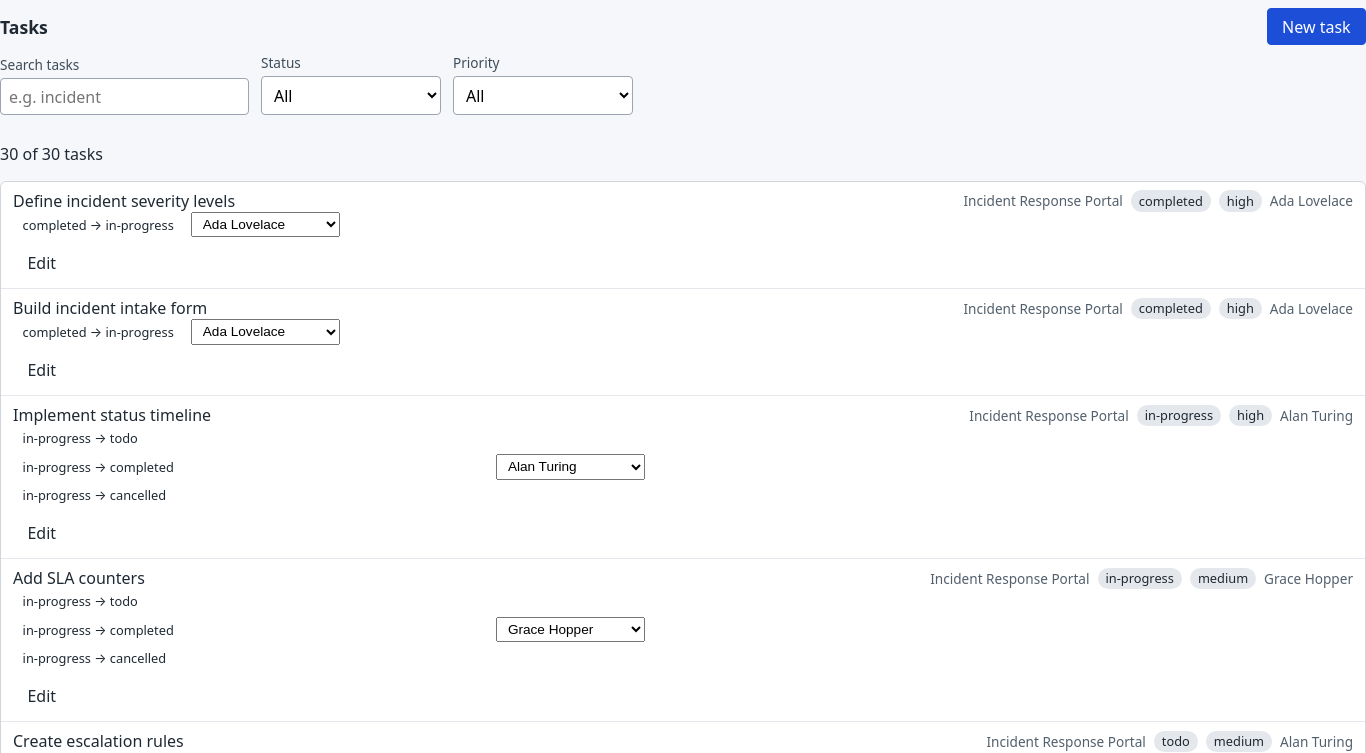
TasksPage — edit (TSK-EDIT) › edits title, description, priority and assignee in any status, including completed
The width and height of the screenshot is (1366, 753).
Step 1. Click the button "Edit" below "Define incident severity levels" → (42, 263), box [13,245,1353,280]
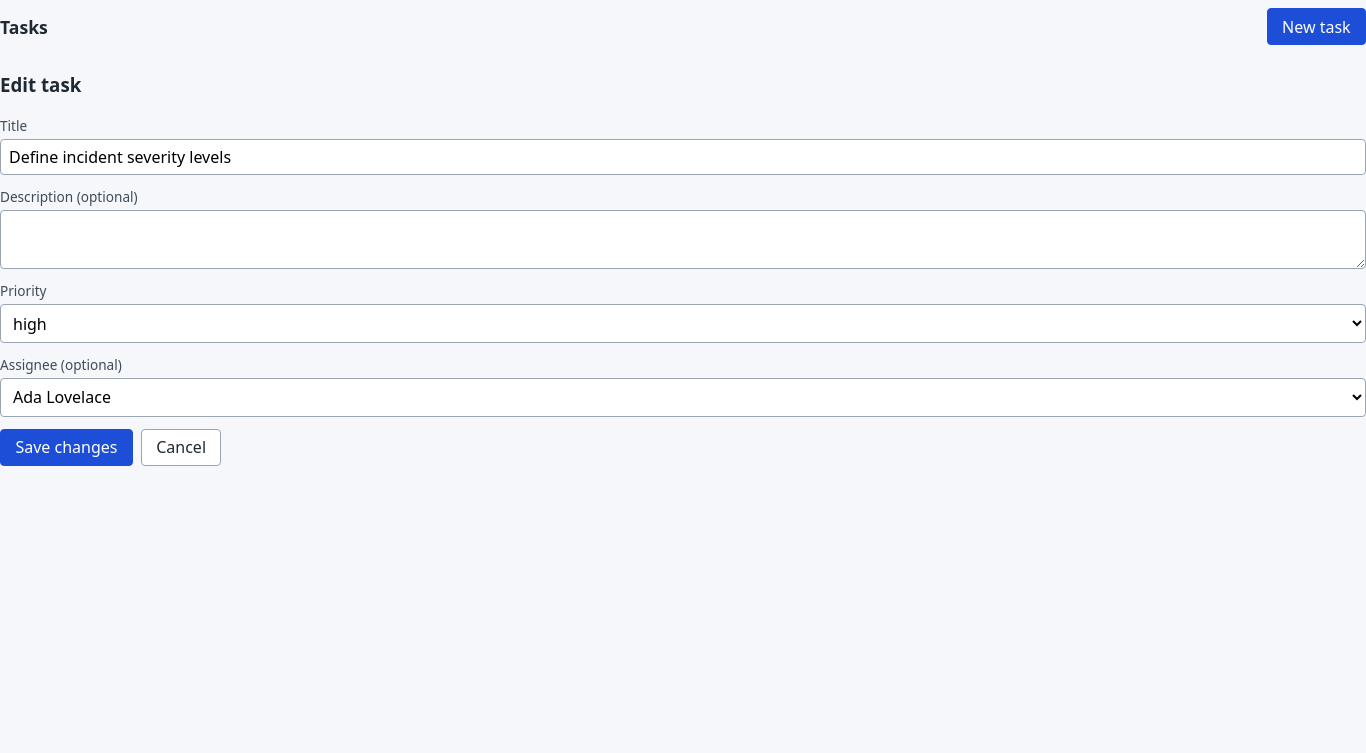
Step 2. Replace the text in the field labelled "Title" with "Define severity levels v2" → (683, 157), box [0,139,1365,175]
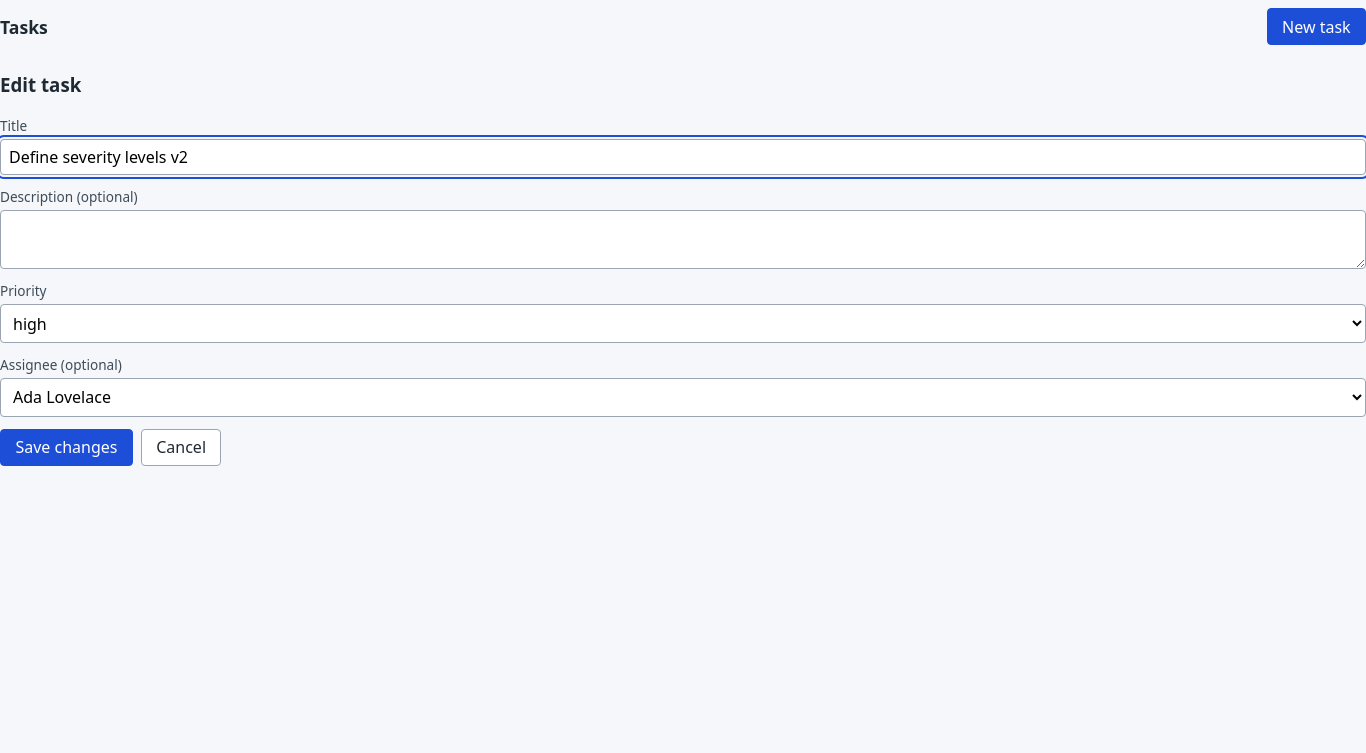
Step 3. Select "low" in the dropdown labelled "Priority" → (683, 324), box [0,304,1365,343]
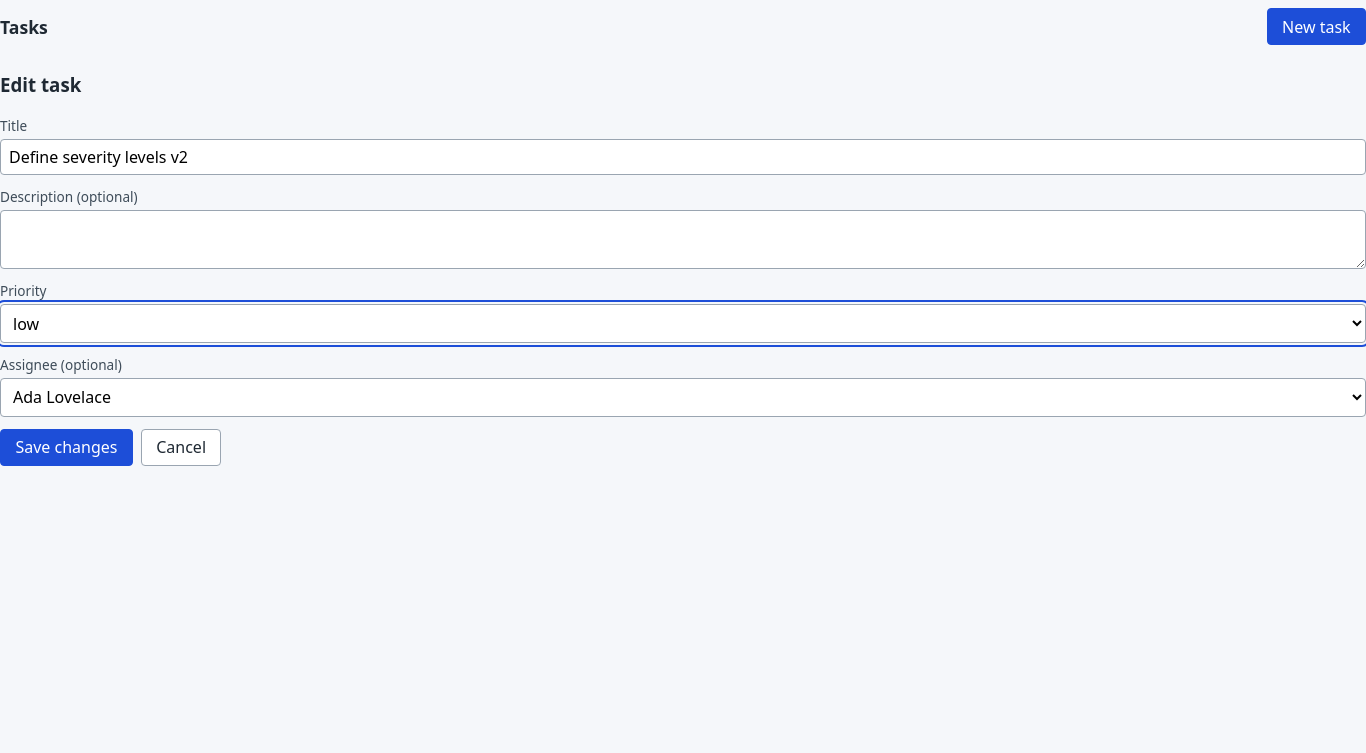
Step 4. Select "Alan Turing" in the dropdown labelled "Assignee (optional)" → (683, 397), box [0,378,1365,417]
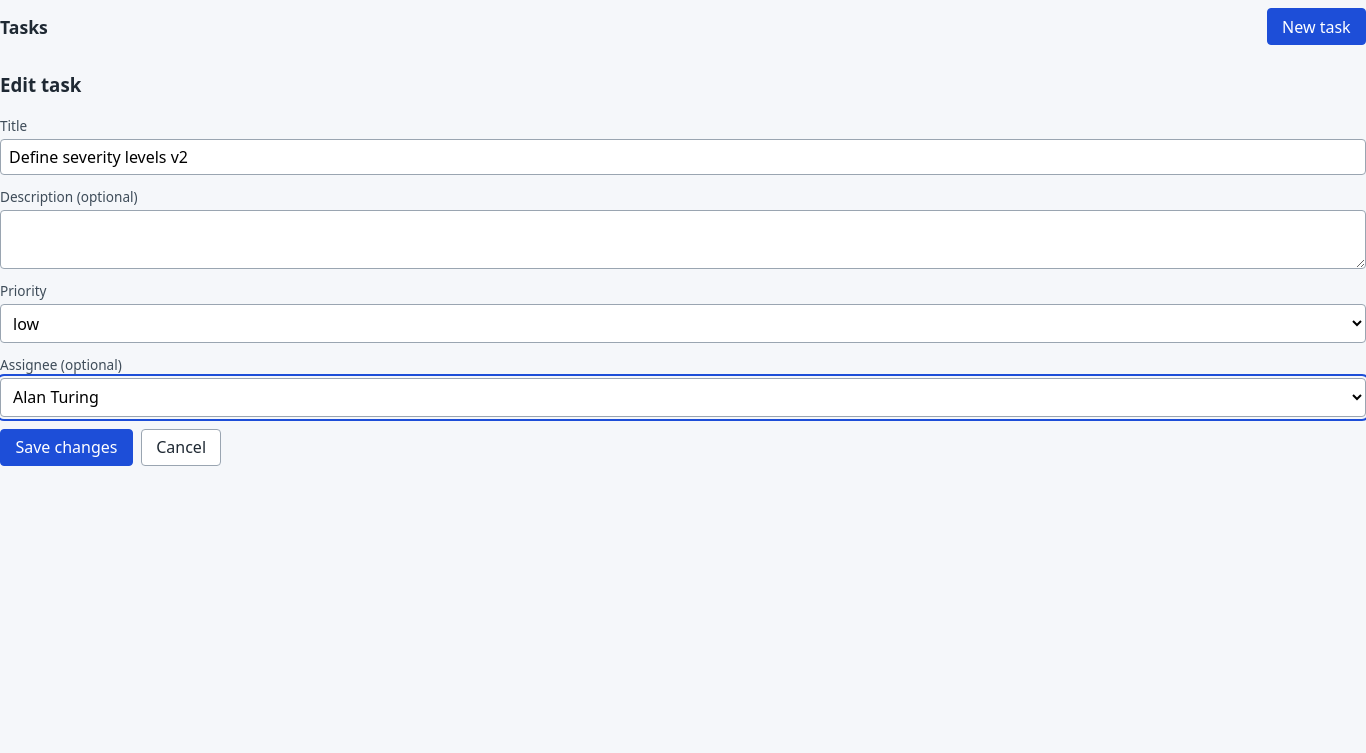
Step 5. Click the button "Save changes" → (66, 447), box [0,429,133,466]
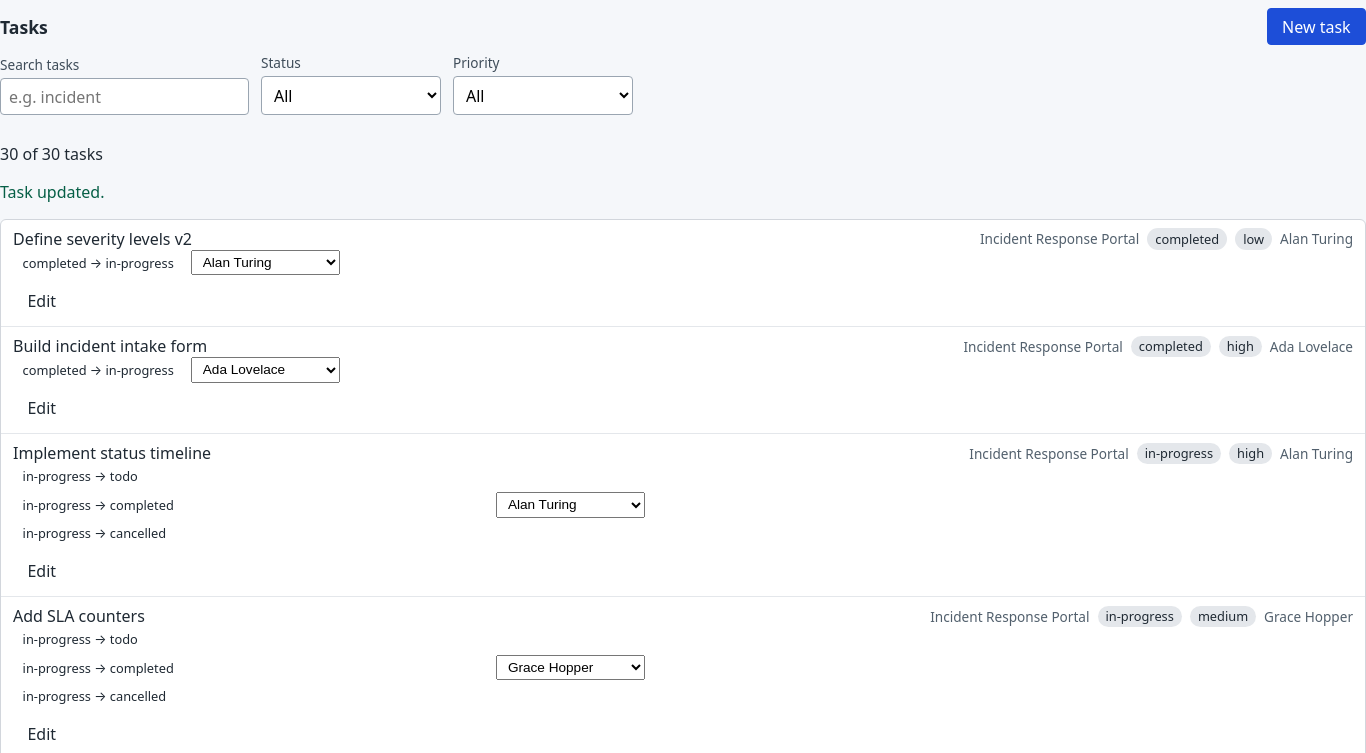
Now the text "Task updated." is shown, box [0,181,104,203]
Now the text "Define severity levels v2" is shown, box [13,228,192,250]
Now the text "low" is shown, box [1235,228,1272,250]
